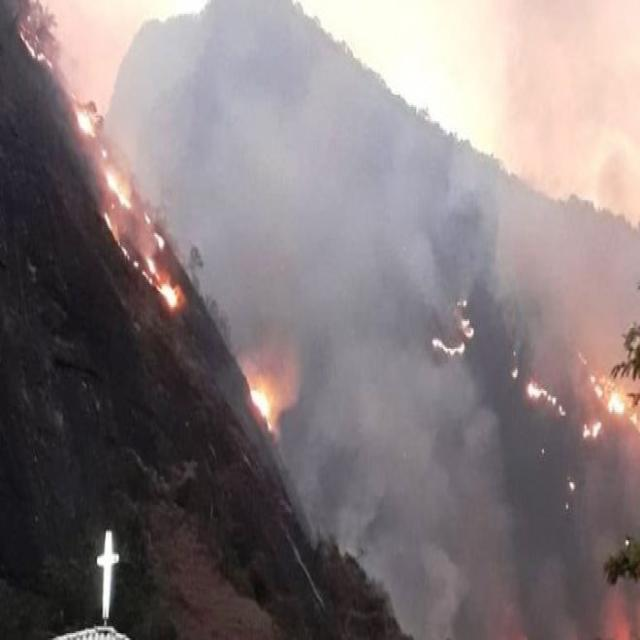Fire: (104, 212, 180, 307), (579, 348, 636, 424), (429, 310, 477, 360), (248, 365, 274, 433), (528, 378, 566, 422), (19, 26, 52, 74), (69, 98, 100, 140), (104, 166, 133, 208), (583, 422, 593, 444), (570, 476, 579, 493), (562, 497, 570, 509), (596, 430, 600, 444)
Smoke: (330, 464, 391, 564), (445, 105, 495, 225), (402, 218, 454, 324), (420, 538, 470, 640), (530, 546, 582, 640), (286, 442, 324, 554), (596, 140, 640, 230)
